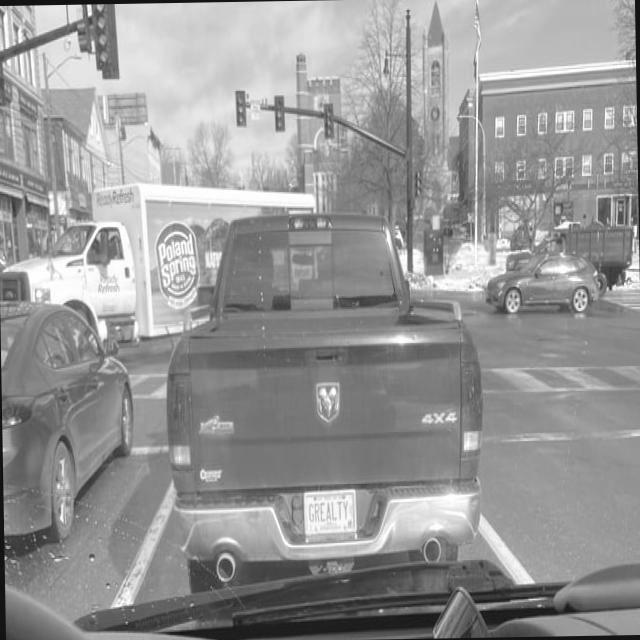LicensePlate: (301, 489, 356, 534)
